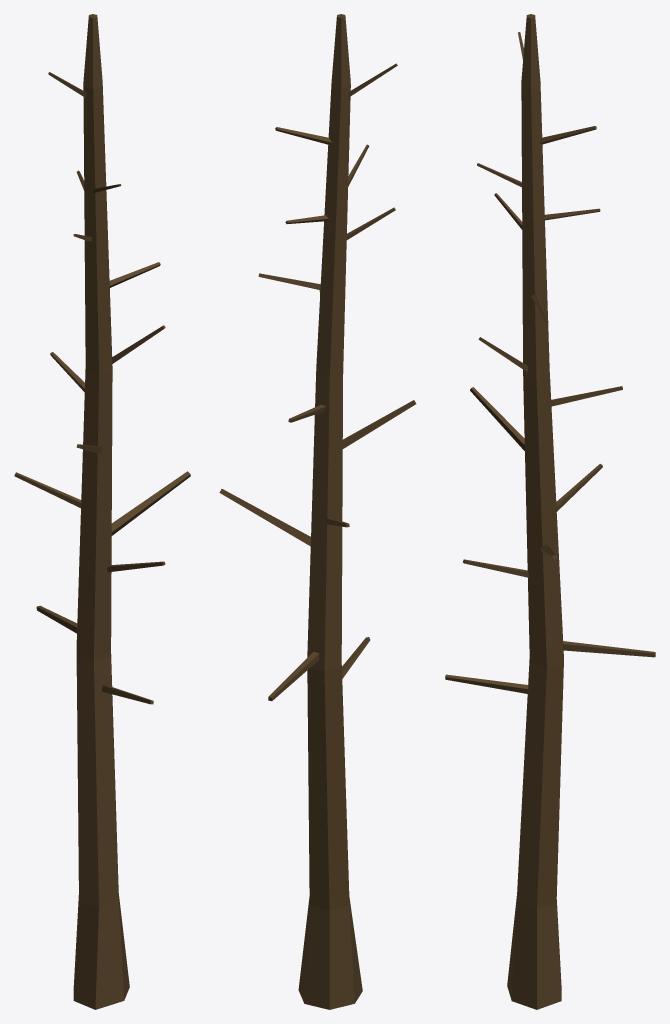
File: Tree_26.fbx
The picture shows the model from 3 angles, left to right: view 1: azimuth 30°, elevation 25°; view 2: azimuth 150°, elevation 25°; view 3: azimuth 270°, elevation 25°; orthographic projection.
Visible parts, largest first — view 1: Tree_26; view 2: Tree_26; view 3: Tree_26.
Boxes of the visible parts, bbox=[...] form: Tree_26: bbox=[14, 14, 190, 1009]; Tree_26: bbox=[219, 14, 416, 1009]; Tree_26: bbox=[445, 14, 655, 1009].
Bounding box in the file's own units: 117 × 687 × 135.
